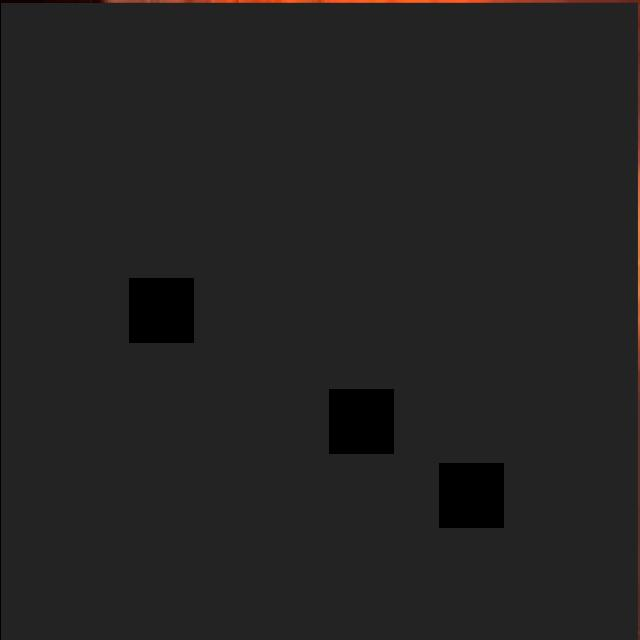nofire: (0, 3, 637, 640)
